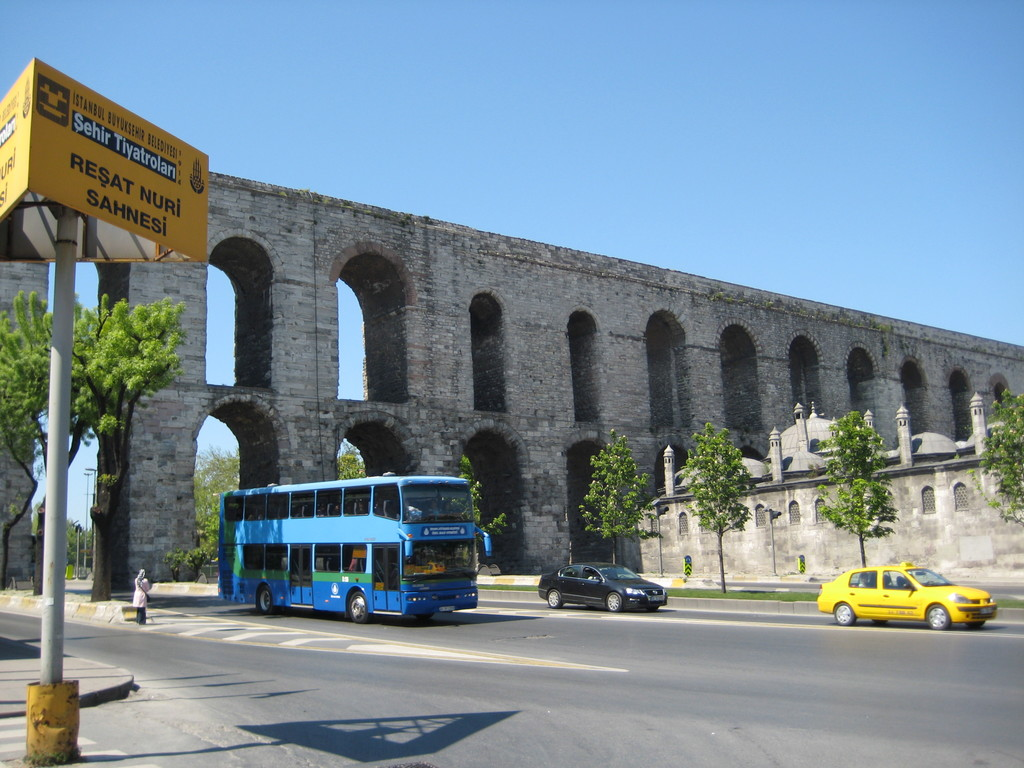mobil: (807, 556, 995, 642), (534, 562, 671, 622)
